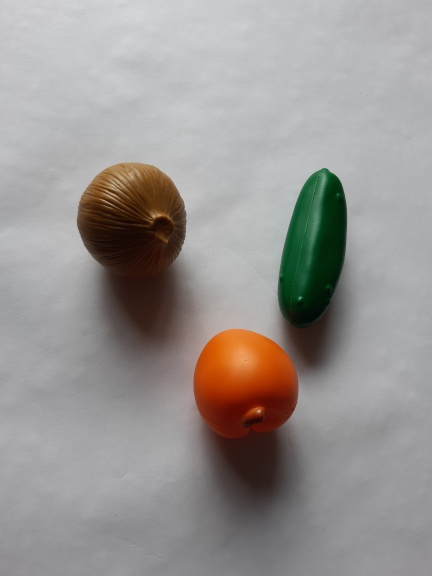apricot: (189, 322, 303, 443)
cucumber: (274, 163, 364, 334)
onion: (71, 157, 194, 290)
